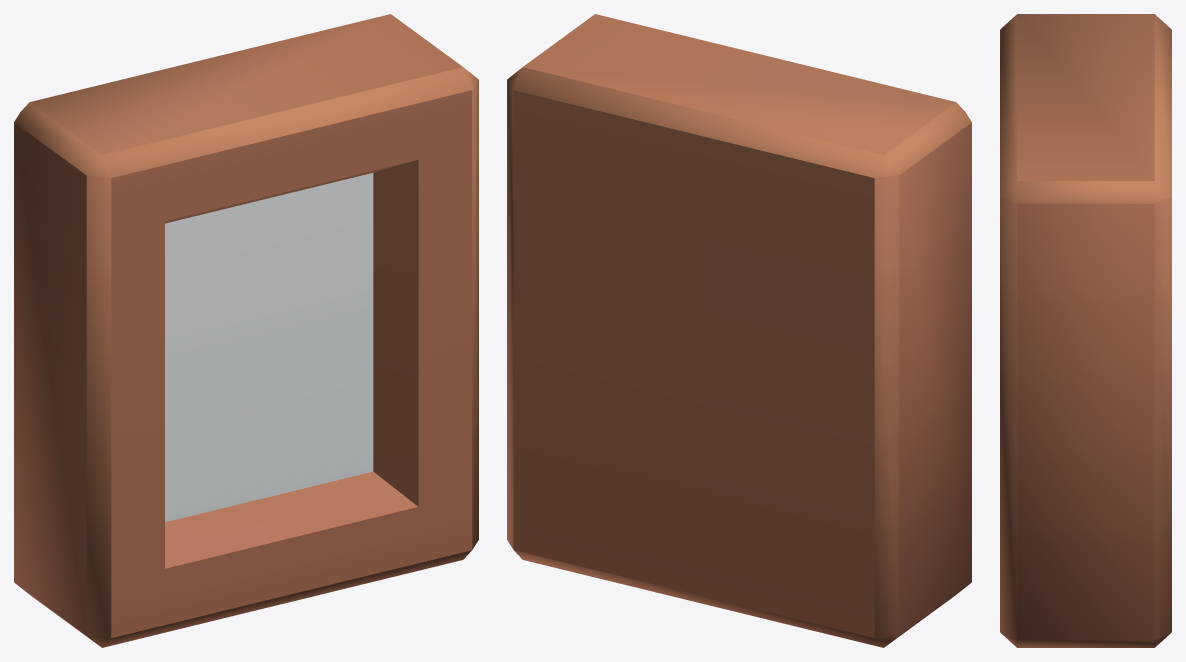
File: pictureframe_small_A.glb
3 views of the same model, side by side, from view 1: azimuth 30°, elevation 25°; view 2: azimuth 150°, elevation 25°; view 3: azimuth 270°, elevation 25° (orthographic). The views are drawn at different scales.
Visible parts, largest first — view 1: pictureframe_small_A; view 2: pictureframe_small_A; view 3: pictureframe_small_A.
Boxes of the visible parts, x1=… form: pictureframe_small_A: x1=14, y1=14, x2=478, y2=647; pictureframe_small_A: x1=507, y1=14, x2=971, y2=647; pictureframe_small_A: x1=1000, y1=14, x2=1171, y2=647.
Size of the model in its own units: 0.5 by 0.6 by 0.2.
1 material, 1 textured.
